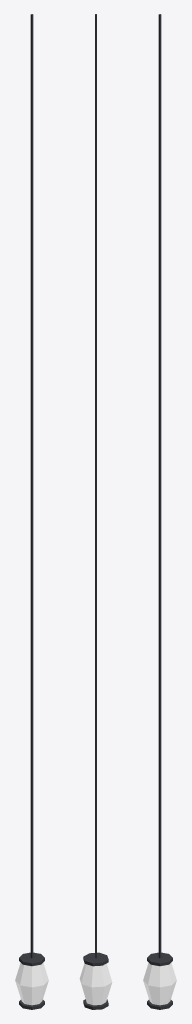
The model's file is keel_lantern_16m.glb.
3 views of the same model, side by side, from view 1: azimuth 90°, elevation 25°; view 2: azimuth 210°, elevation 25°; view 3: azimuth 270°, elevation 25° (orthographic).
Visible parts, largest first — view 1: keel_lantern_16m; view 2: keel_lantern_16m; view 3: keel_lantern_16m.
Boxes of the visible parts, x1=… form: keel_lantern_16m: x1=15, y1=14, x2=48, y2=1009; keel_lantern_16m: x1=79, y1=14, x2=112, y2=1009; keel_lantern_16m: x1=143, y1=14, x2=176, y2=1009.
Bounding box in the file's own units: 0.52 × 16.76 × 0.52.
Materials: 2 (1 with a texture image).
